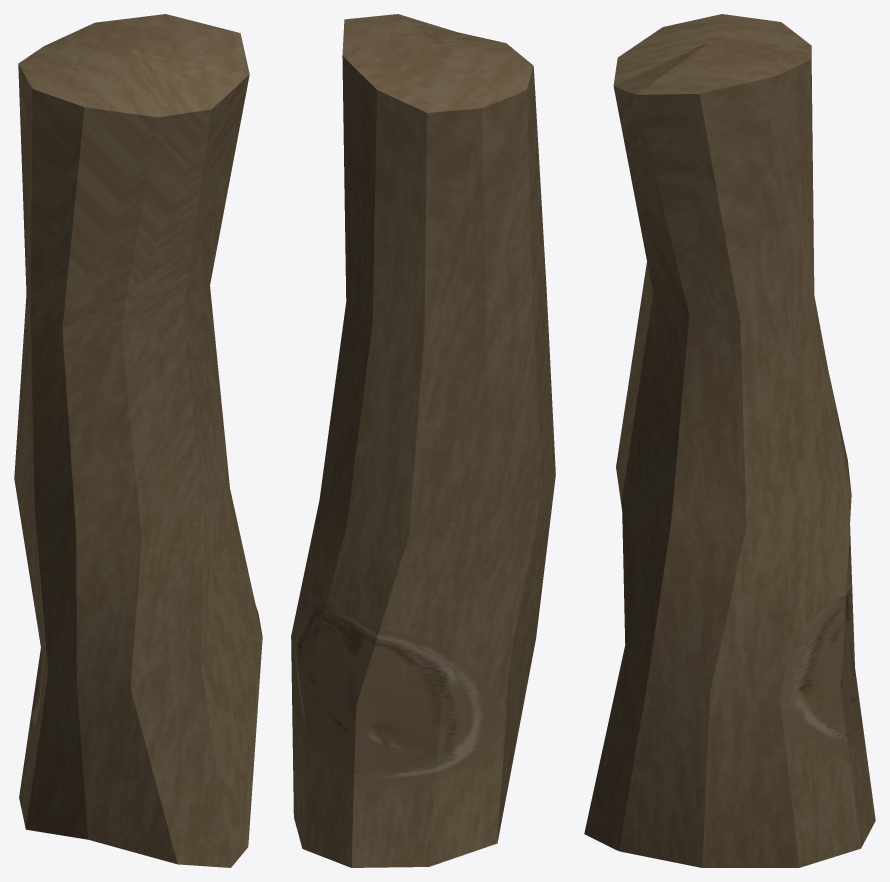
File: m_tree.fbx
The picture shows the model from 3 angles, left to right: view 1: azimuth 30°, elevation 25°; view 2: azimuth 150°, elevation 25°; view 3: azimuth 270°, elevation 25°; orthographic projection.
Parts seen in each view (by area): view 1: pCylinder1; view 2: pCylinder1; view 3: pCylinder1.
Boxes of the visible parts, x1,y1,x2,y2 form: pCylinder1: (14,14,262,867); pCylinder1: (291,14,555,867); pCylinder1: (584,14,875,867).
Size of the model in its own units: 3.59 by 11.78 by 4.01.
Materials: 1 (1 with a texture image).
